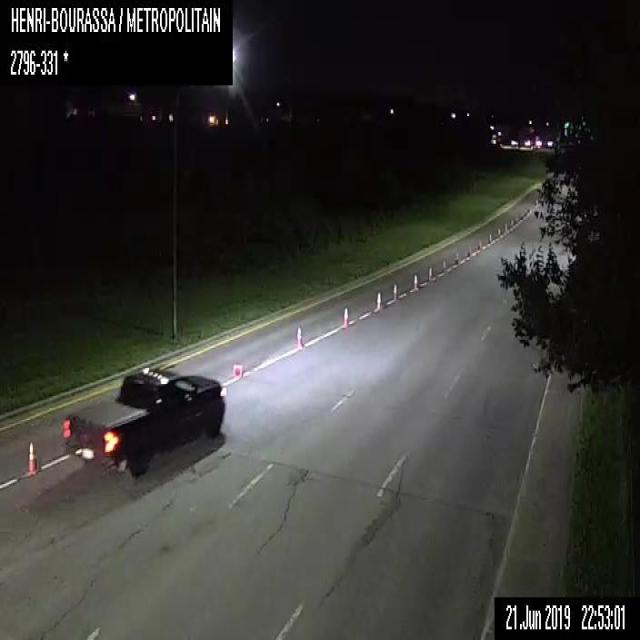construction: (27, 437, 38, 475), (296, 324, 306, 349), (232, 362, 246, 378), (341, 307, 349, 329), (375, 291, 382, 309), (485, 232, 491, 248), (427, 265, 433, 280), (412, 272, 417, 289), (454, 251, 459, 268), (441, 258, 446, 274), (496, 224, 501, 240), (475, 240, 481, 253), (465, 245, 470, 259), (392, 282, 396, 298), (503, 222, 507, 234)
vehicle: (62, 365, 224, 479)
